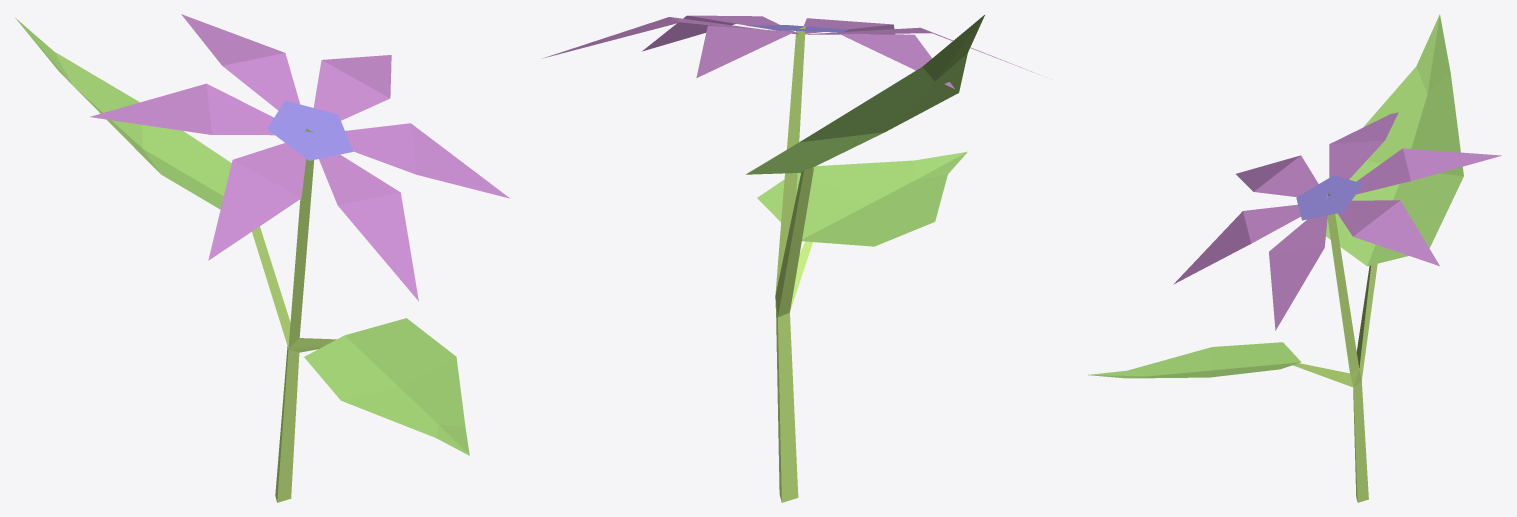
File: Flower_b_OneS_09.fbx
3 renders of one model, left to right at view 1: azimuth 30°, elevation 25°; view 2: azimuth 150°, elevation 25°; view 3: azimuth 270°, elevation 25°, orthographic. The views are drawn at different scales.
Parts seen in each view (by area): view 1: Flower_b_OneS_09; view 2: Flower_b_OneS_09; view 3: Flower_b_OneS_09.
Part boxes in pixels (x1=…): Flower_b_OneS_09: x1=15, y1=14, x2=509, y2=502; Flower_b_OneS_09: x1=542, y1=15, x2=1038, y2=502; Flower_b_OneS_09: x1=1088, y1=14, x2=1501, y2=502.
Size of the model in its own units: 40.47 by 49.03 by 46.18.
